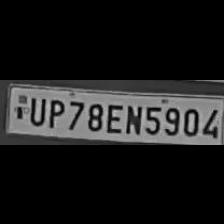0: (180, 102, 200, 136)
4: (199, 102, 219, 138)
5: (141, 101, 161, 135)
7: (64, 96, 82, 130)
8: (84, 98, 104, 132)
9: (162, 102, 180, 134)
E: (103, 100, 123, 132)
N: (122, 100, 142, 134)
P: (44, 96, 64, 128)
U: (27, 93, 46, 125)
